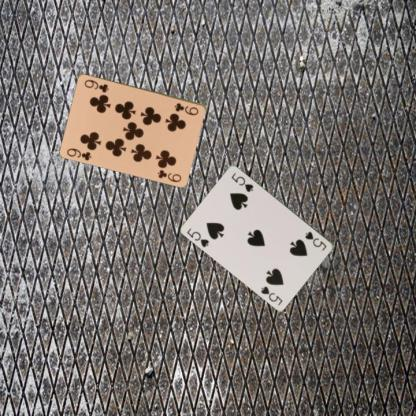5s: (302, 229, 327, 252), (184, 226, 210, 248)
9c: (172, 100, 200, 116), (65, 146, 93, 162)
